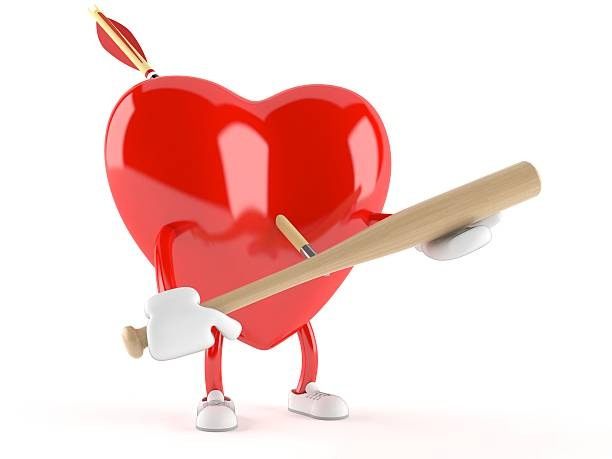bita: (118, 161, 544, 354)
